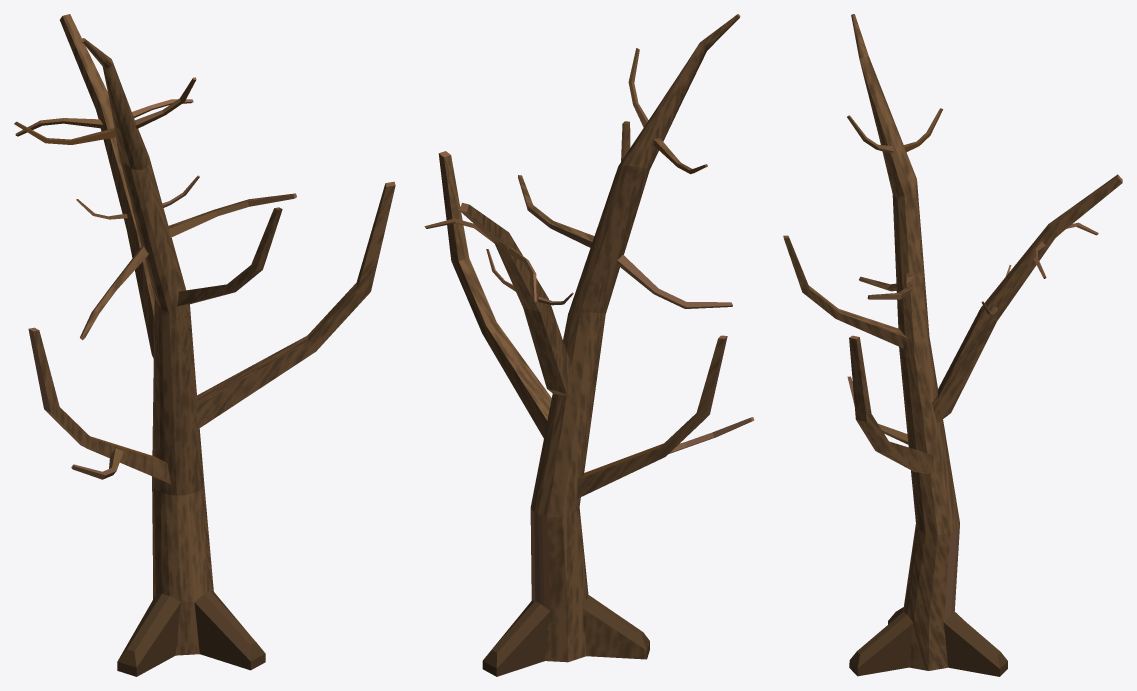
The model's file is tree.glb.
The picture shows the model from 3 angles, left to right: view 1: azimuth 30°, elevation 25°; view 2: azimuth 150°, elevation 25°; view 3: azimuth 270°, elevation 25°; orthographic projection. The views are drawn at different scales.
Parts seen in each view (by area): view 1: Tree; view 2: Tree; view 3: Tree.
Boxes of the visible parts, x1,y1,x2,y2 form: Tree: (14,14,395,676); Tree: (424,14,754,676); Tree: (783,14,1122,676).
Size of the model in its own units: 12.11 by 23.31 by 12.26.
1 material, 1 textured.
